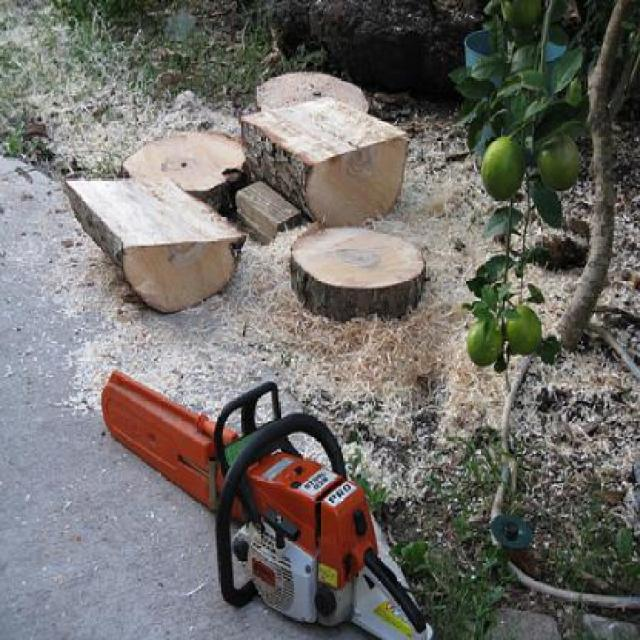Chainsaw: (99, 371, 432, 640)
